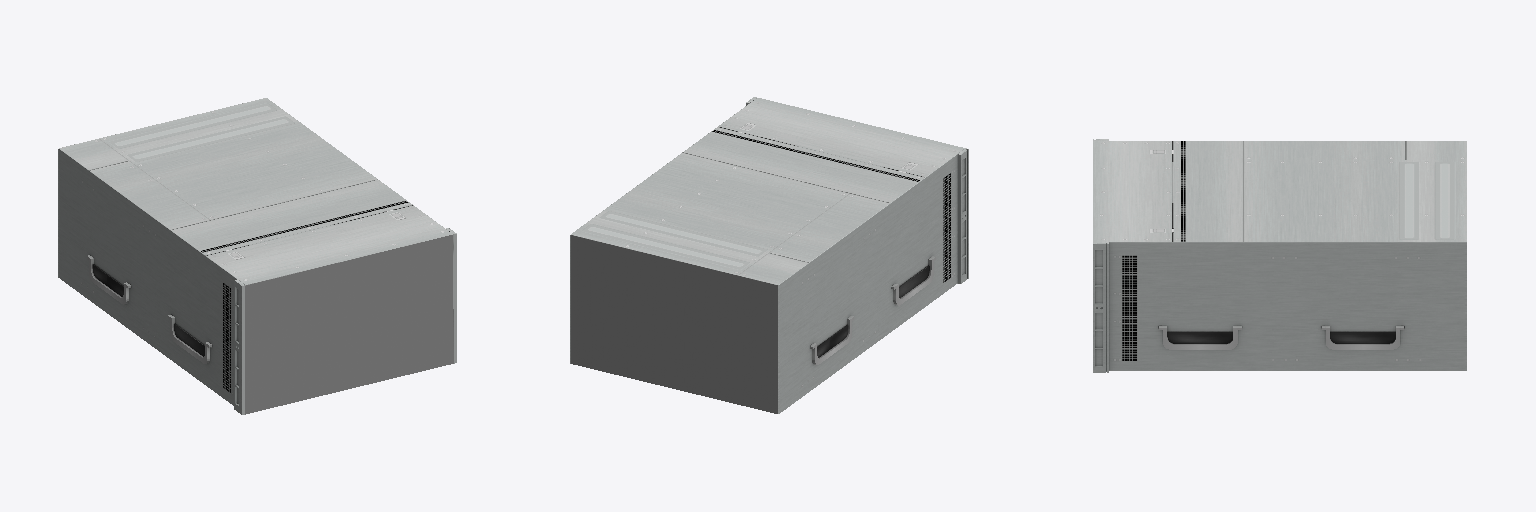
The picture shows the model from 3 angles: view 1: azimuth 30°, elevation 25°; view 2: azimuth 150°, elevation 25°; view 3: azimuth 270°, elevation 25°; orthographic projection.
Visible parts, largest first — view 1: Box01; view 2: Box01; view 3: Box01.
Boxes of the visible parts, box(x1,y1,x2,y2) form: Box01: box(58, 98, 456, 414); Box01: box(570, 97, 968, 413); Box01: box(1093, 139, 1466, 372).
Size of the model in its own units: 46.4 by 26.7 by 70.
Materials: 1 (1 with a texture image).